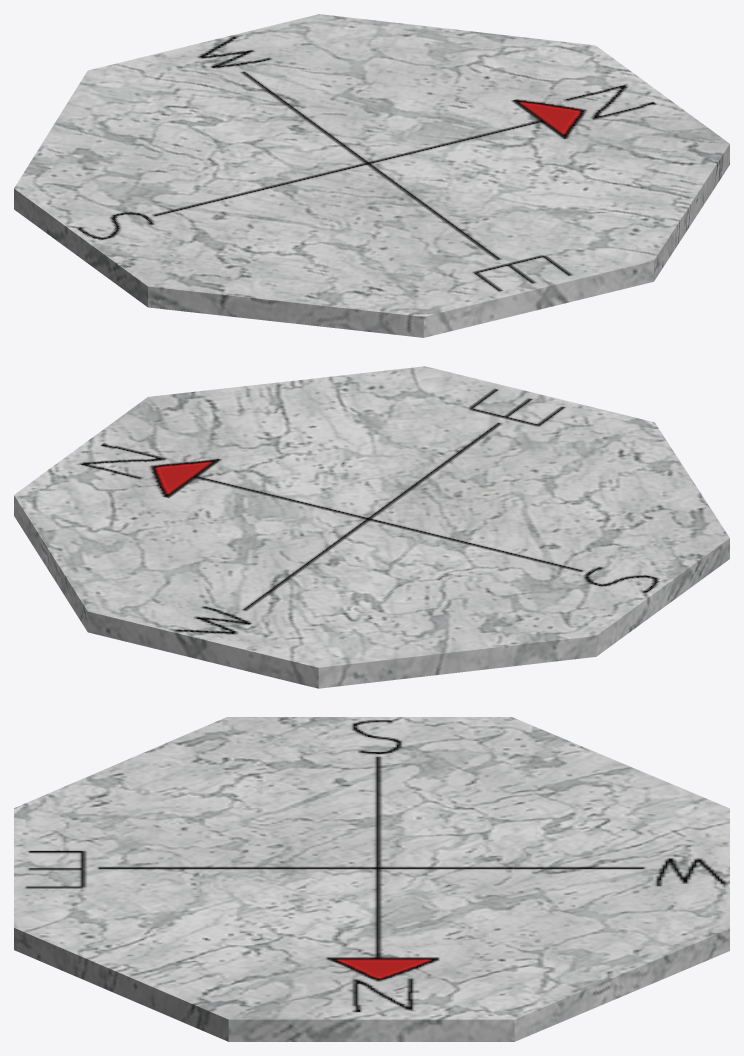
Rendered from Compass Floorplate.fbx.
The picture shows the model from 3 angles, top to bottom: view 1: azimuth 30°, elevation 25°; view 2: azimuth 150°, elevation 25°; view 3: azimuth 270°, elevation 25°; orthographic projection. The views are drawn at different scales.
Visible parts, largest first — view 1: Cube; view 2: Cube; view 3: Cube.
Part boxes in pixels (x1=…): Cube: x1=14, y1=14, x2=729, y2=337; Cube: x1=14, y1=366, x2=729, y2=688; Cube: x1=14, y1=717, x2=729, y2=1041.
Size of the model in its own units: 200 by 6.88 by 200.
